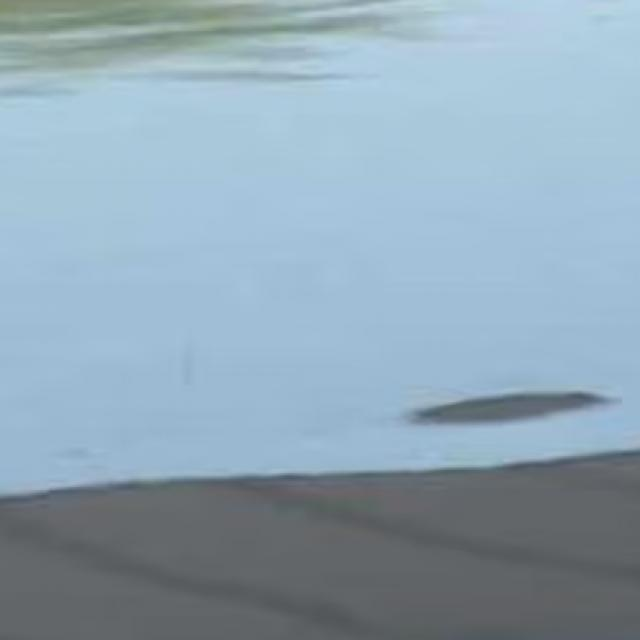dents: (405, 368, 620, 438), (148, 63, 374, 93), (229, 23, 354, 70), (40, 429, 132, 485)
